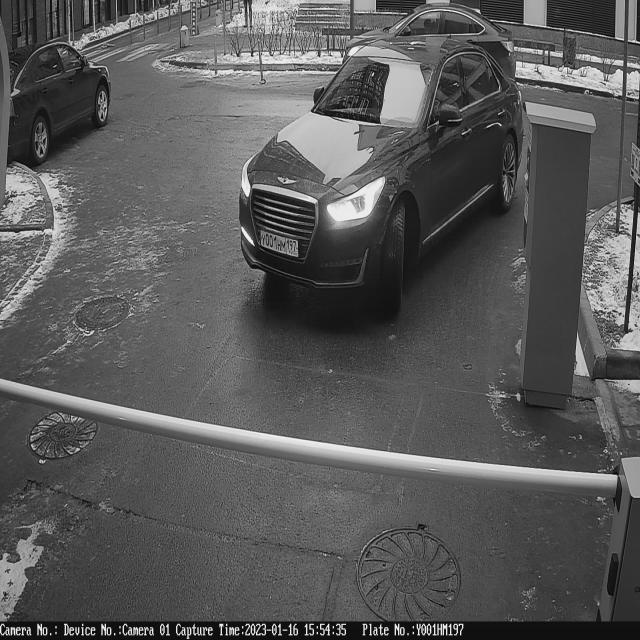car-plate-numbers: (259, 226, 301, 265)
